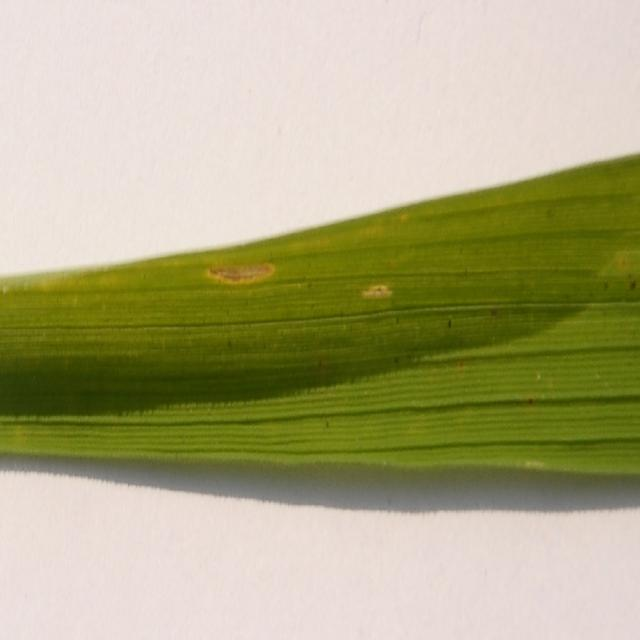Unhealthy: (207, 263, 275, 287), (364, 282, 393, 300), (629, 277, 636, 291), (527, 395, 533, 410), (447, 317, 452, 331)
